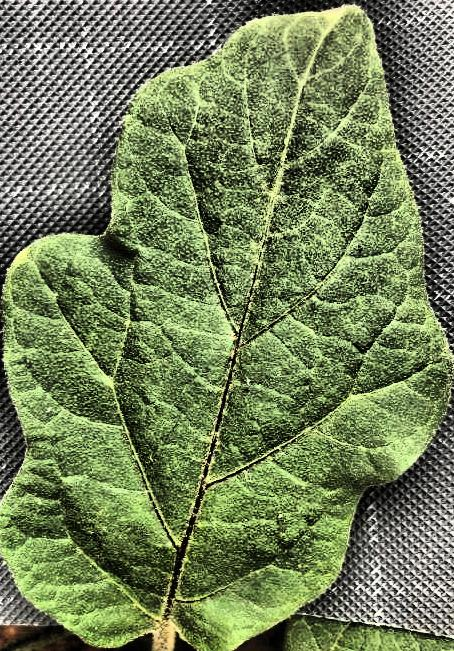HEALTHY: (0, 1, 454, 651)
